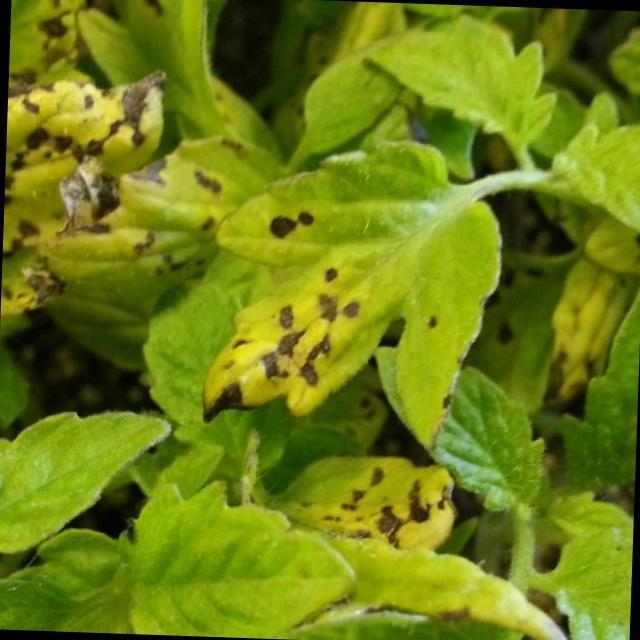Bacterial Spot: (1, 76, 240, 288), (245, 207, 364, 392), (310, 448, 437, 552)
